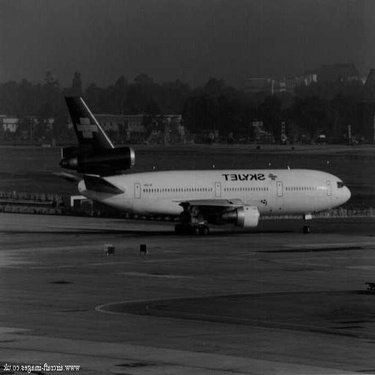airplane: (48, 90, 356, 234)
